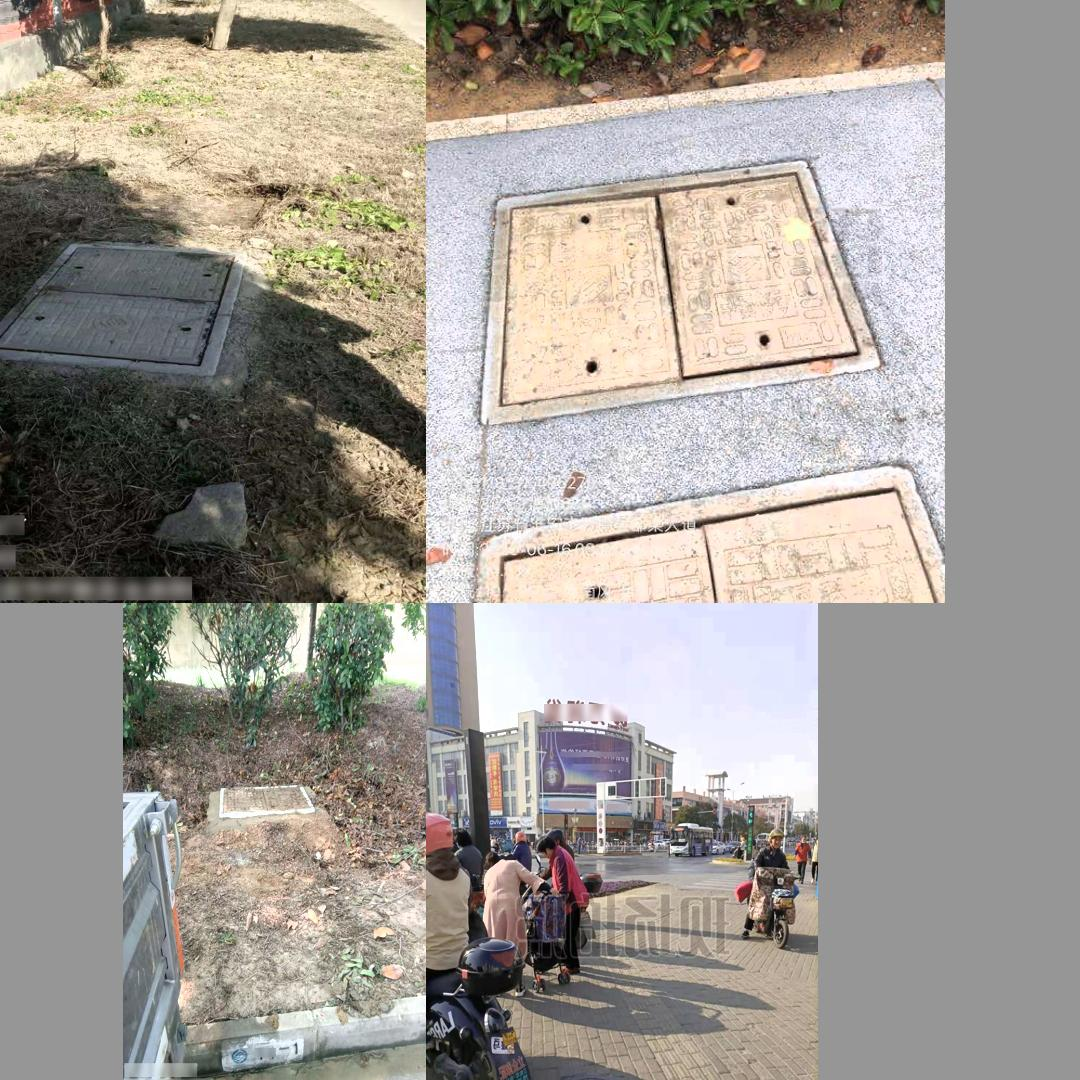good: (478, 157, 881, 424), (478, 466, 945, 603), (0, 242, 248, 375), (219, 784, 316, 818), (529, 1072, 648, 1080)
